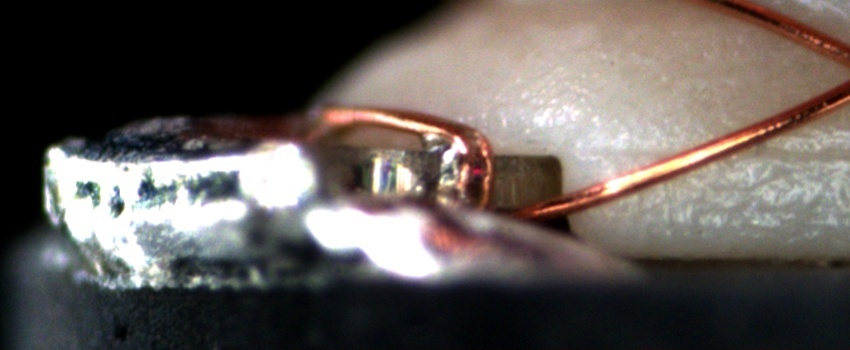DL: (591, 129, 849, 179)
TE: (293, 101, 499, 226)
